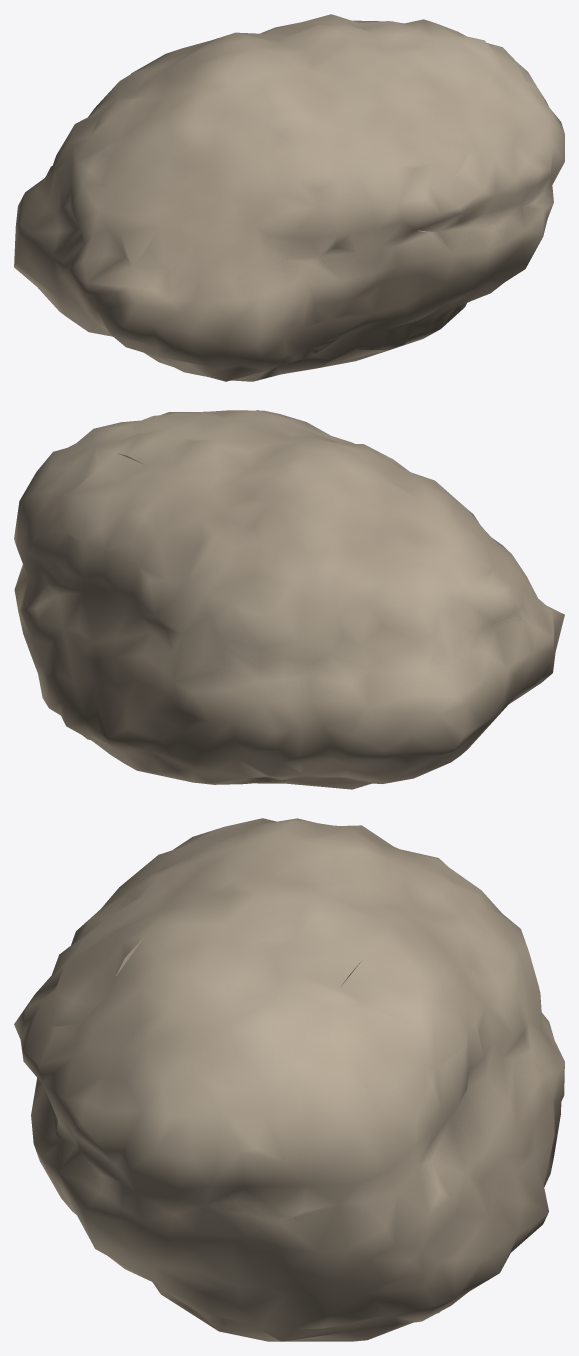
File: roca_erosionada.fbx
The picture shows the model from 3 angles, top to bottom: view 1: azimuth 30°, elevation 25°; view 2: azimuth 150°, elevation 25°; view 3: azimuth 270°, elevation 25°; orthographic projection. The views are drawn at different scales.
Parts seen in each view (by area): view 1: roca_erosionada; view 2: roca_erosionada; view 3: roca_erosionada.
Boxes of the visible parts, x1,y1,x2,y2 form: roca_erosionada: (14, 14, 564, 381); roca_erosionada: (14, 410, 564, 789); roca_erosionada: (14, 818, 564, 1341).
Bounding box in the file's own units: 2.83 × 1.64 × 2.13.
1 material, 1 textured.
